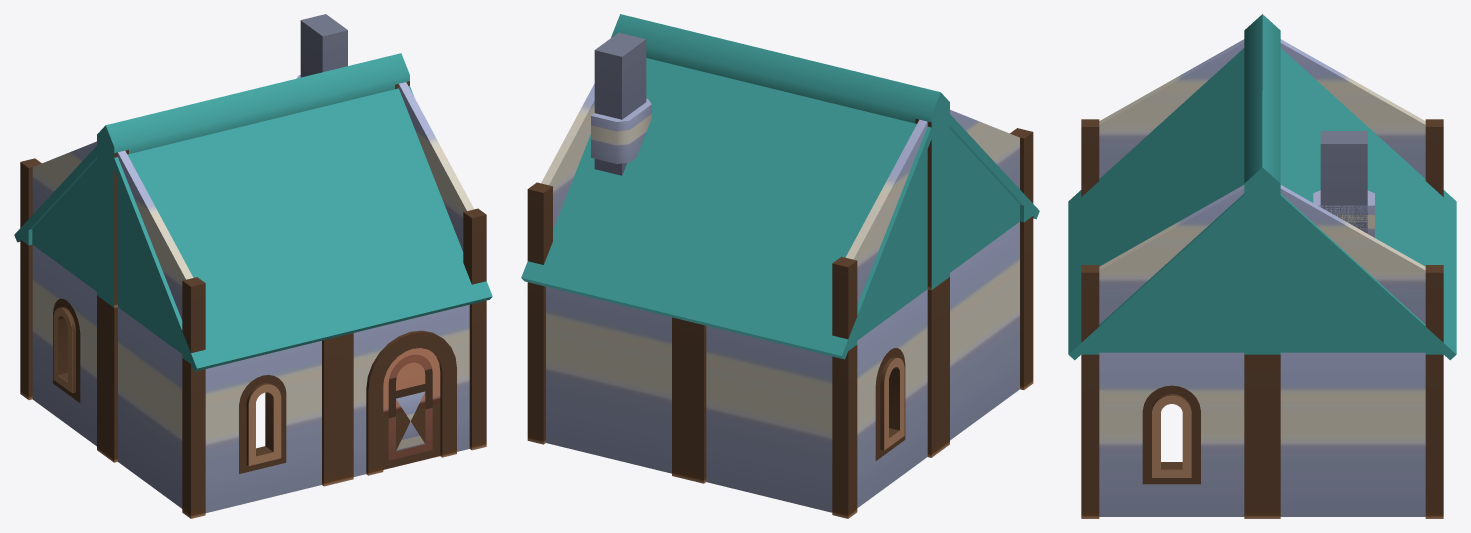
Rendered from maison-bois-2.glb.
3 views of the same model, side by side, from view 1: azimuth 30°, elevation 25°; view 2: azimuth 150°, elevation 25°; view 3: azimuth 270°, elevation 25° (orthographic). The views are drawn at different scales.
Visible parts, largest first — view 1: roof-high, wall-window-round; view 2: wall-window-round, roof-high; view 3: wall-window-round, roof-high.
Part boxes in pixels (bbox=[...]): roof-high: bbox=[14, 53, 492, 371]; wall-window-round: bbox=[20, 14, 486, 518]; wall-window-round: bbox=[527, 32, 1033, 518]; roof-high: bbox=[521, 14, 1039, 359]; wall-window-round: bbox=[1081, 39, 1443, 518]; roof-high: bbox=[1068, 14, 1456, 360].
Size of the model in its own units: 6 by 6.6 by 6.42.
2 materials, 1 textured.
